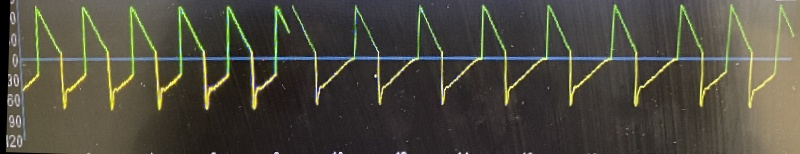normal_flow: (340, 0, 783, 110)
peepi: (21, 0, 281, 115)
